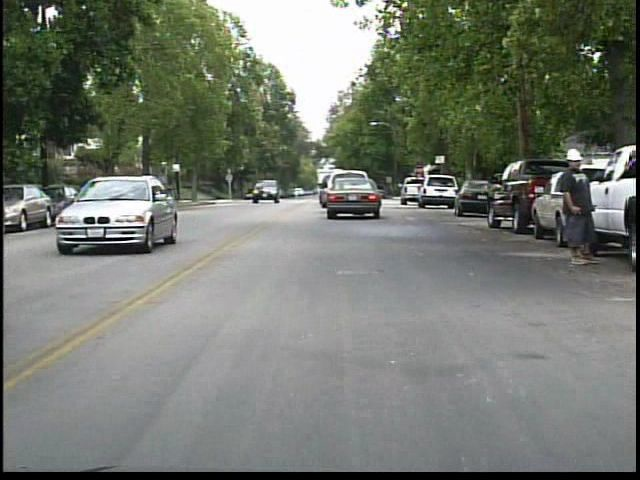person: (554, 143, 603, 269)
